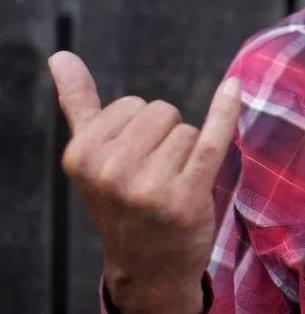clockwise: (43, 45, 243, 271)
